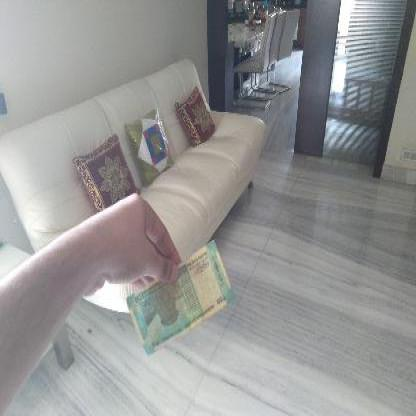New50Back: (127, 240, 231, 352)
